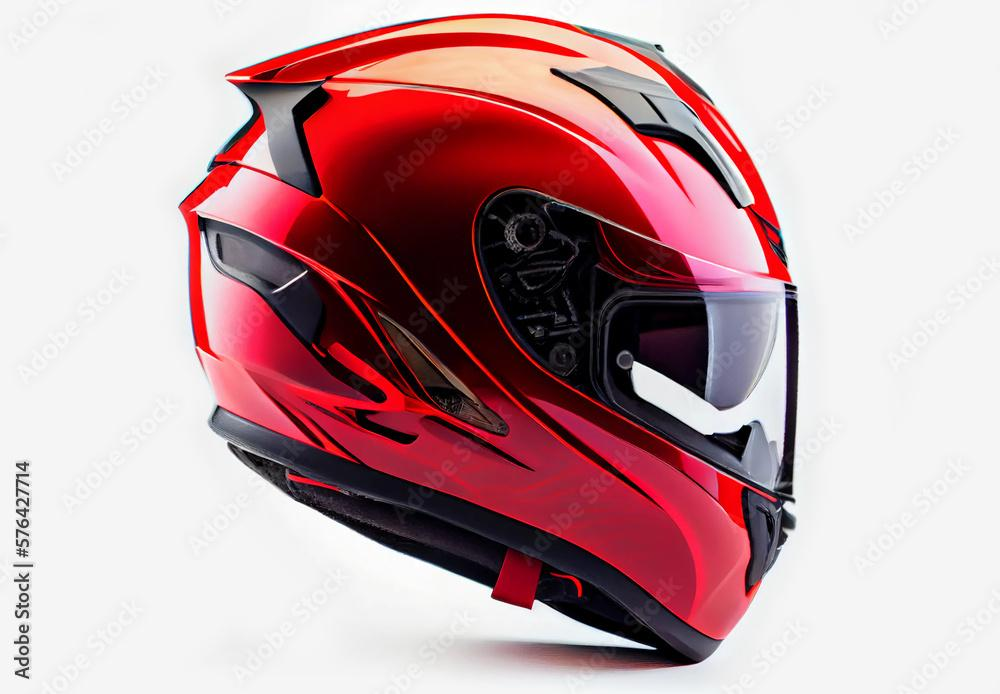helmet: (175, 9, 802, 667)
